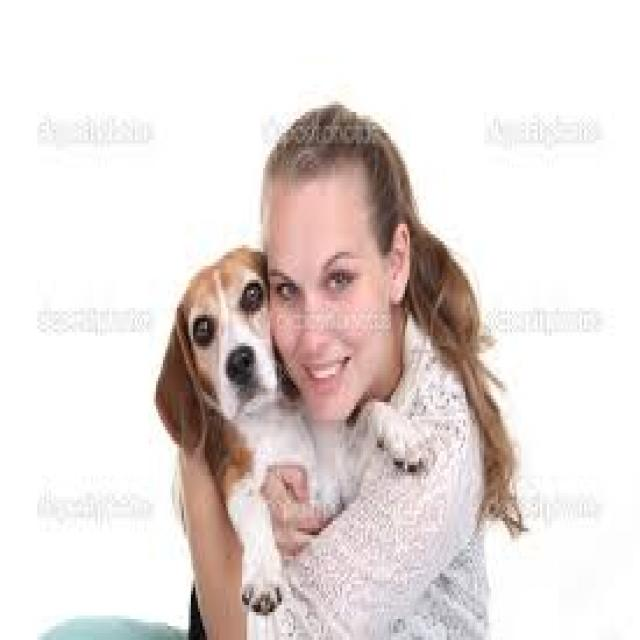Dog: (150, 239, 433, 622)
